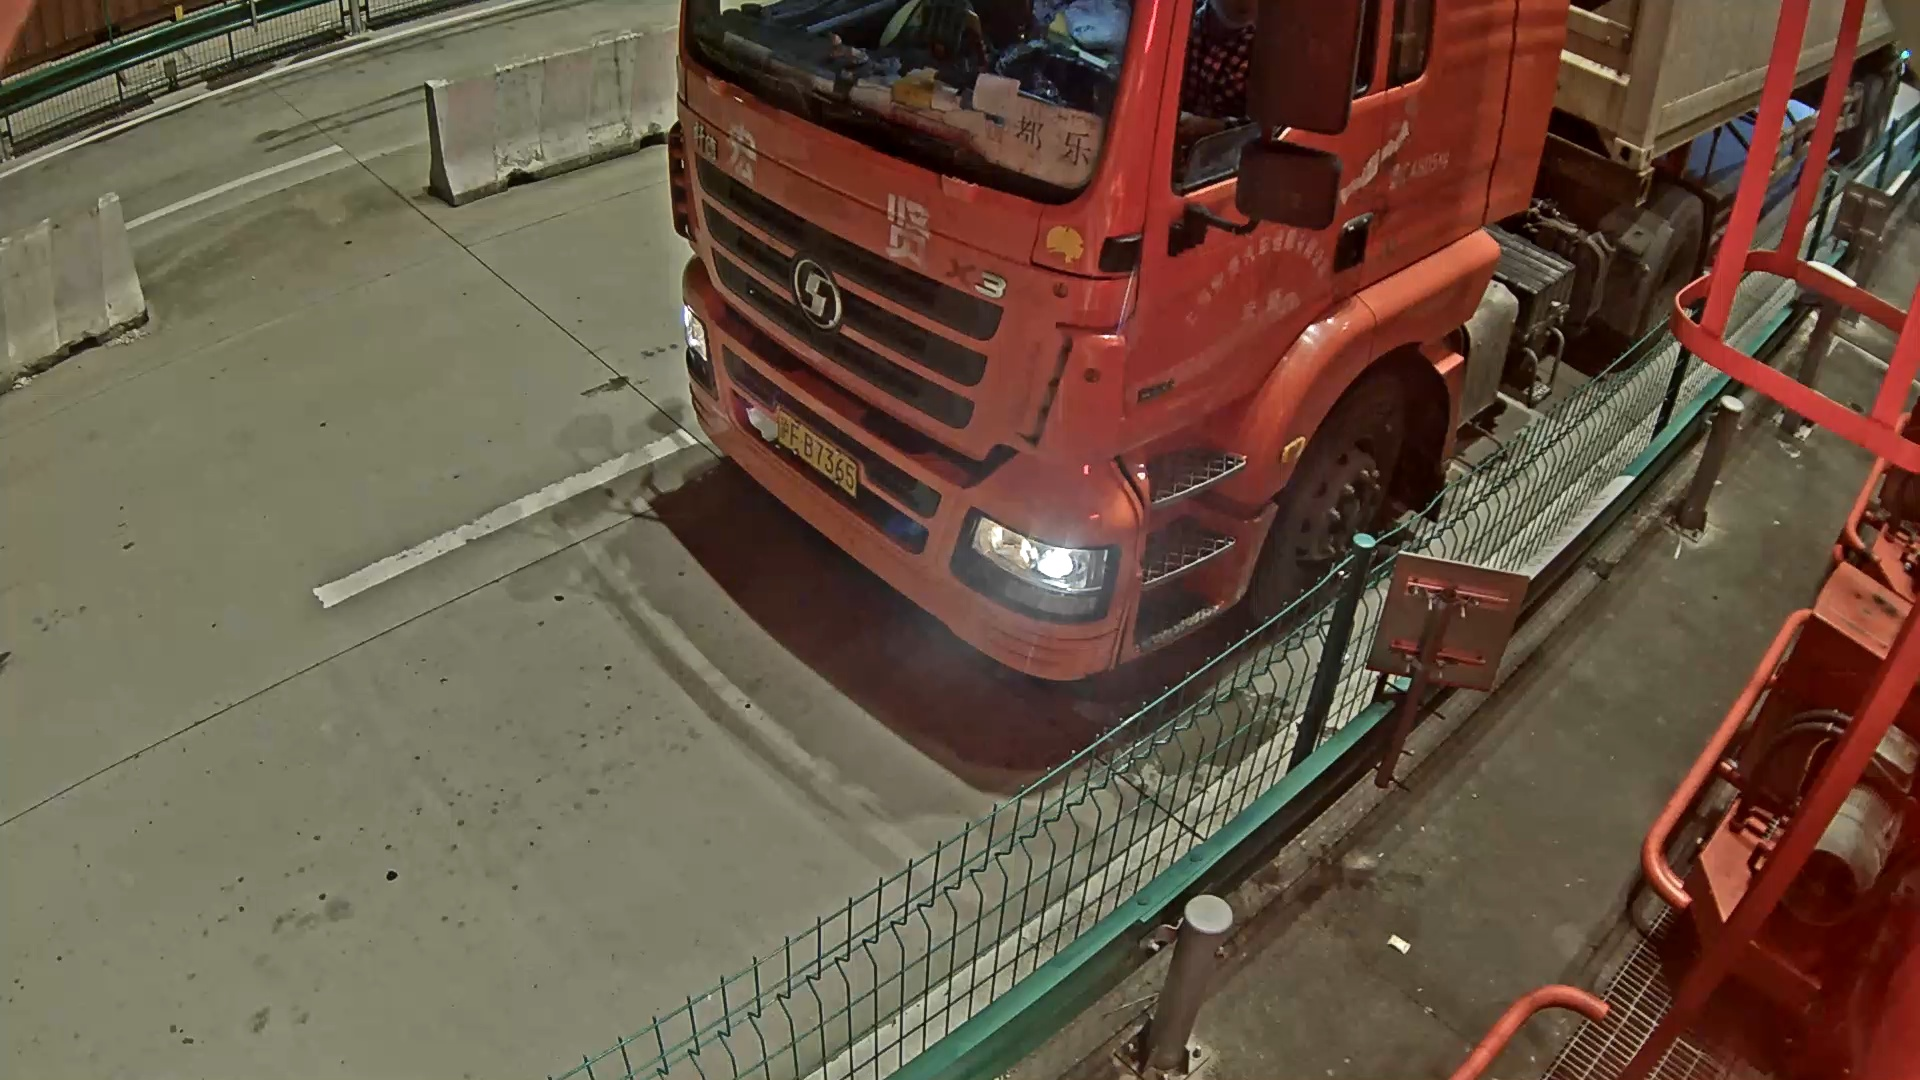head: (684, 1, 1575, 676)
plate: (775, 402, 862, 499)
